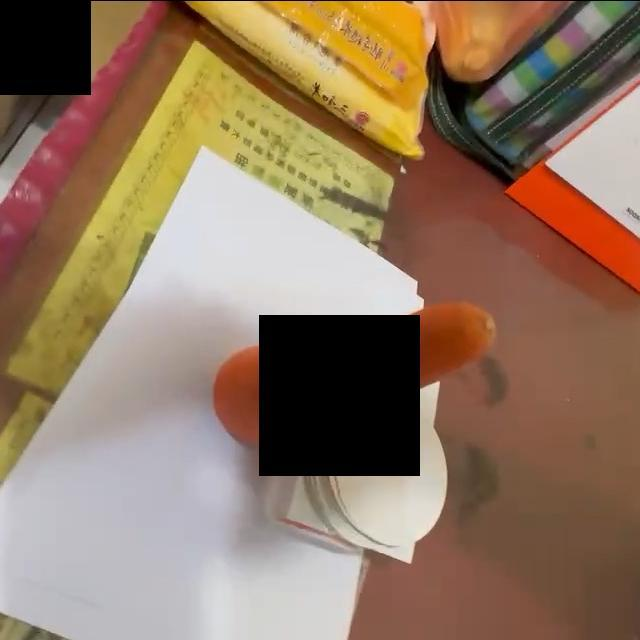carrot: (216, 301, 498, 435)
